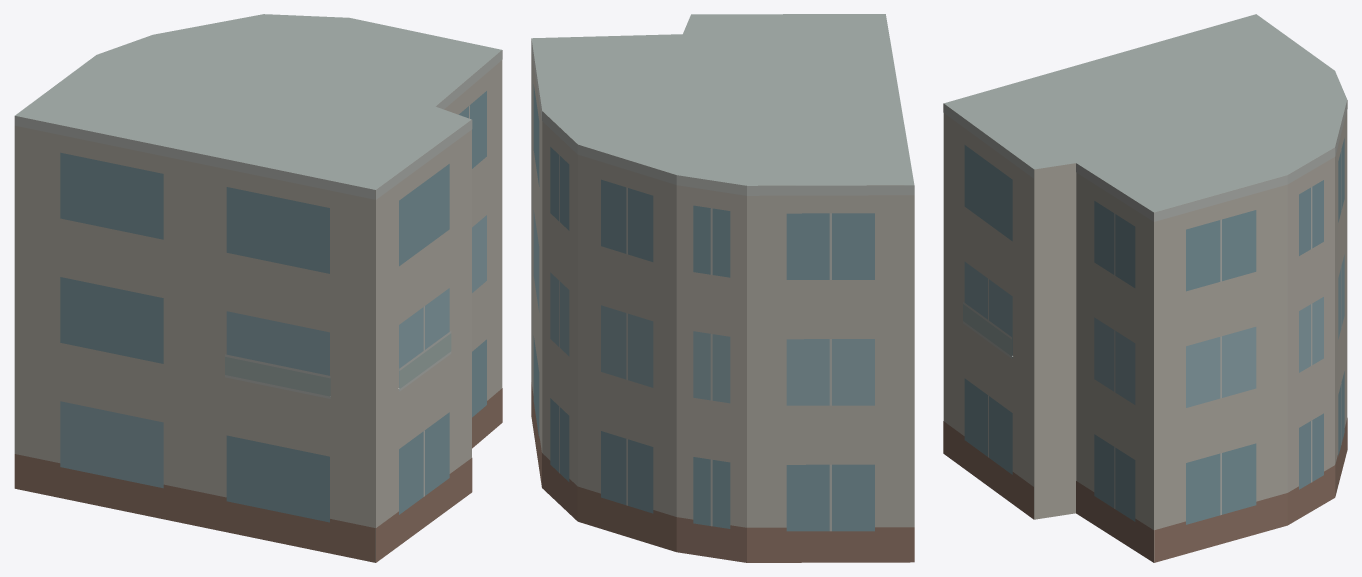
The model's file is survey-upis-32604975.glb.
The picture shows the model from 3 angles, left to right: view 1: azimuth 30°, elevation 25°; view 2: azimuth 150°, elevation 25°; view 3: azimuth 270°, elevation 25°; orthographic projection. The views are drawn at different scales.
Parts seen in each view (by area): view 1: survey-upis-32604975.tmp; view 2: survey-upis-32604975.tmp; view 3: survey-upis-32604975.tmp.
Boxes of the visible parts, x1,y1,x2,y2 form: survey-upis-32604975.tmp: (14,14,502,562); survey-upis-32604975.tmp: (531,14,914,562); survey-upis-32604975.tmp: (943,14,1347,562).
Size of the model in its own units: 11.14 by 9.15 by 9.57.
